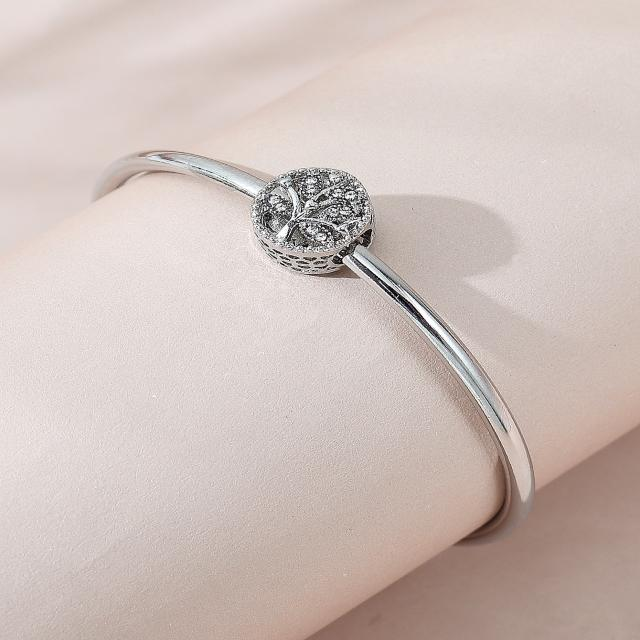bracelet: (79, 89, 578, 578)
